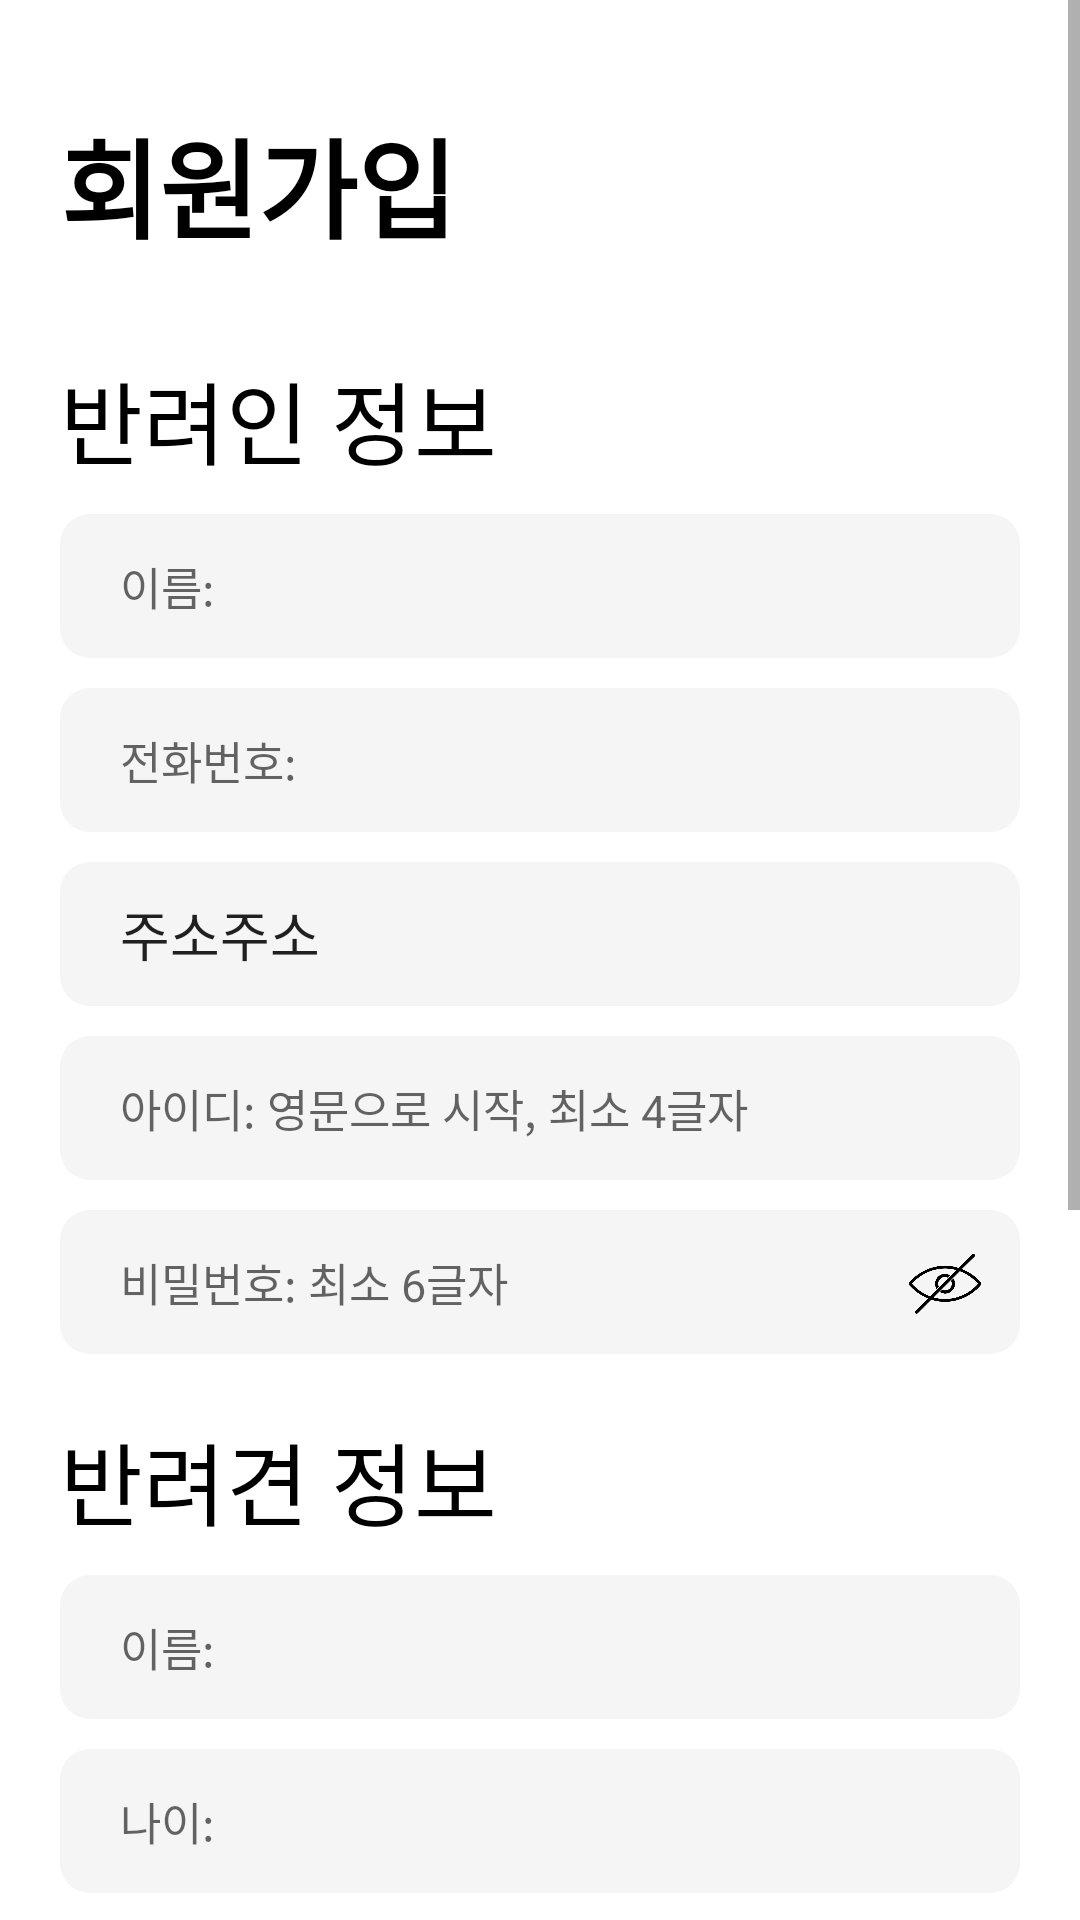

Icons on this 1080×1920 Android screen, each with its box as (x1, y1, x2, y2):
eyes: (909, 1254, 981, 1314)
